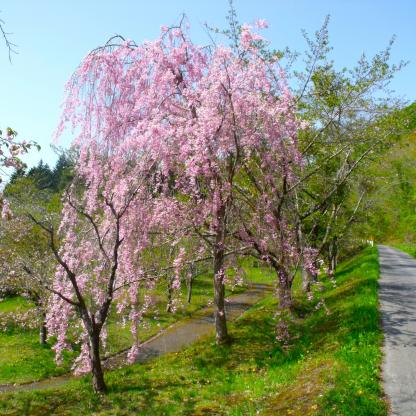ShidareZakura: (43, 12, 337, 378)
